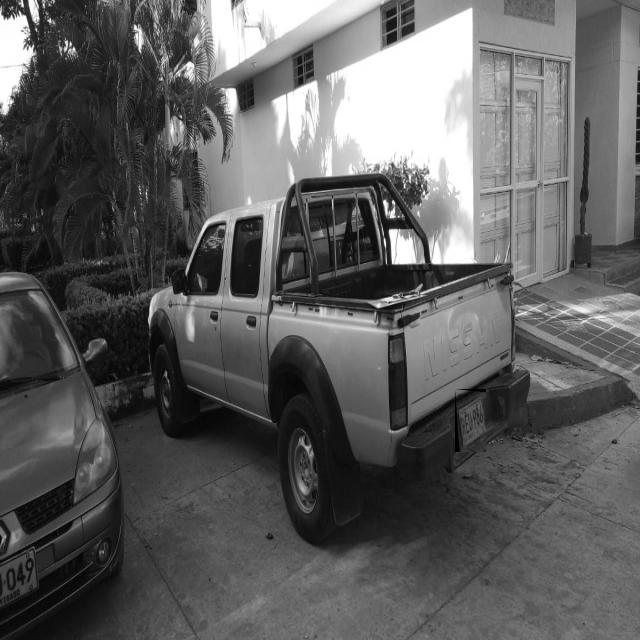plate: (456, 392, 486, 452)
